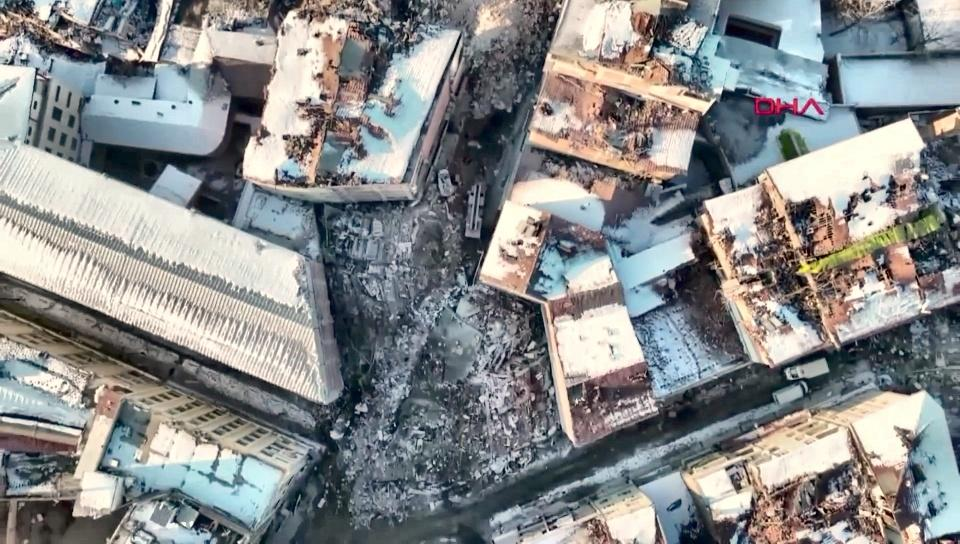kapali: (315, 158, 491, 527), (455, 0, 556, 166), (843, 302, 959, 388)
